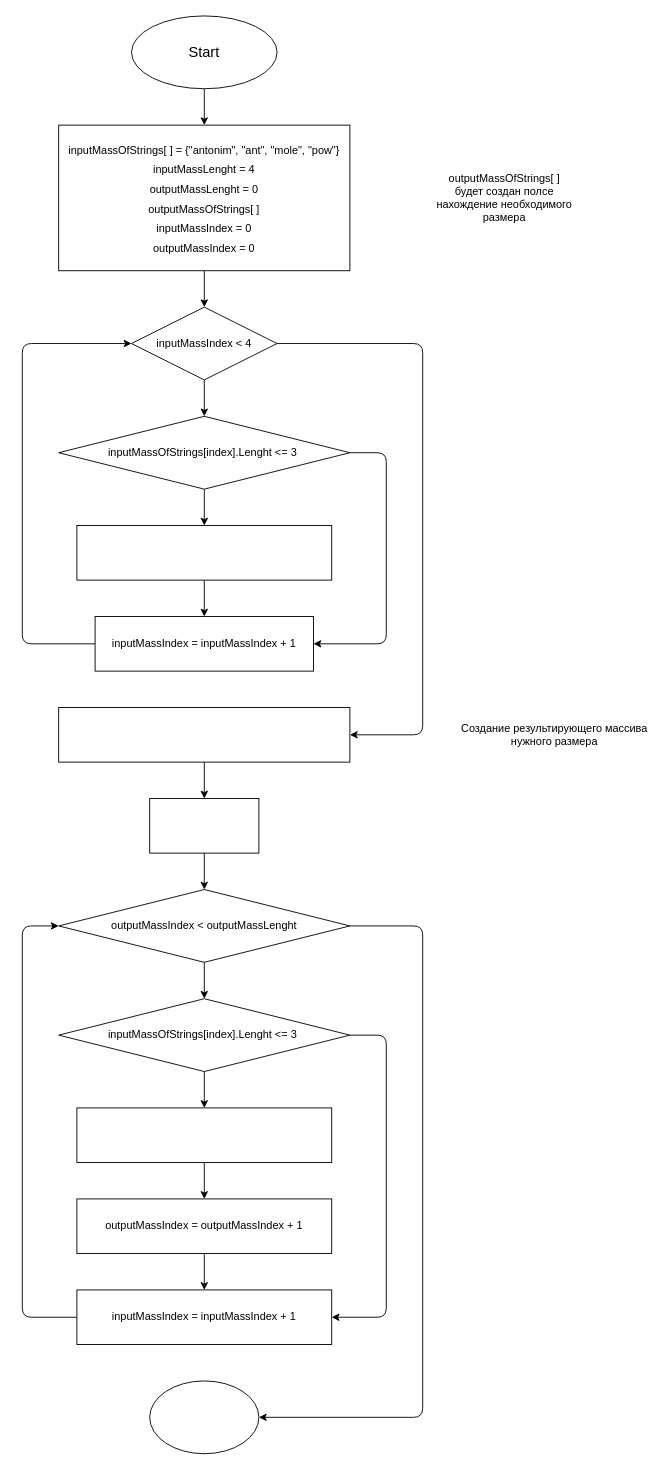
The diagram is 666 pixels wide and 1470 high, and some of its shapes have lost their labels. The centre of each missing label's shape, as x and y in pixels:
"End" belongs at pixel 204 1417.
"inputMassIndex = 0" belongs at pixel 204 825.
"outputMassLenght = outputMassLenght + 1" belongs at pixel 204 552.
"outputMassOfStrings[ ] = new string[ outputMassLenght ]" belongs at pixel 204 734.
"outputMassOfStrings[ outputMassIndex ] = inputMassOsStrings[ inputMassIndex ]" belongs at pixel 204 1135.
